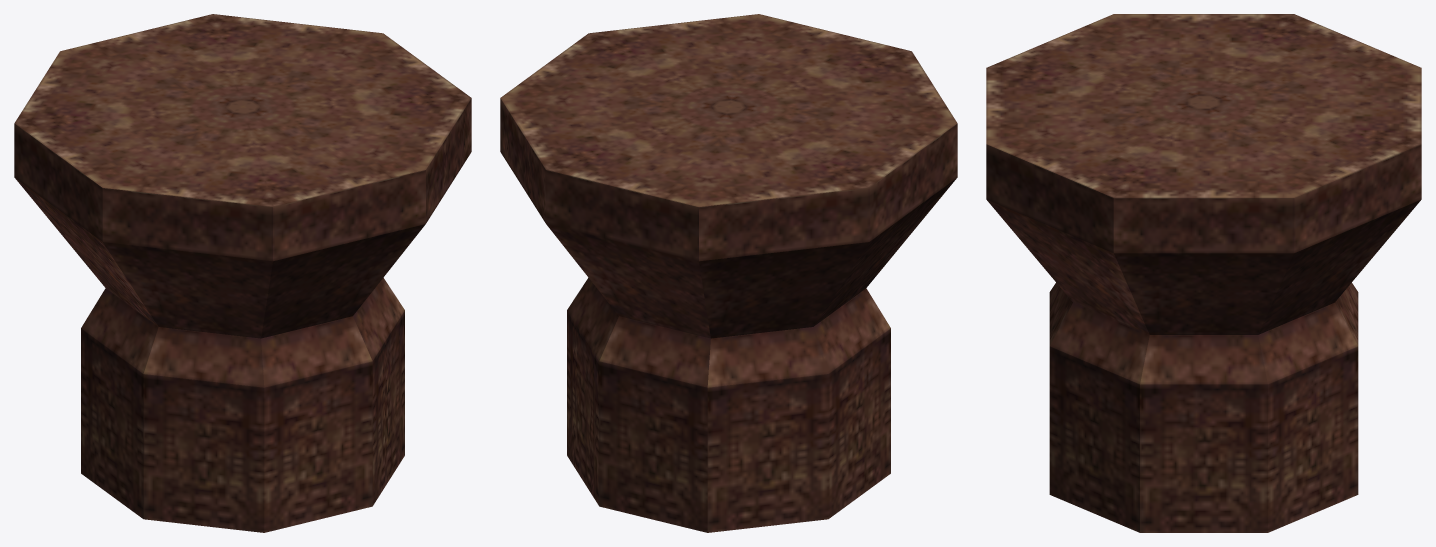
Rendered from general_obj_bigtower11.glb.
The picture shows the model from 3 angles, left to right: view 1: azimuth 30°, elevation 25°; view 2: azimuth 150°, elevation 25°; view 3: azimuth 270°, elevation 25°; orthographic projection. The views are drawn at different scales.
Visible parts, largest first — view 1: Sphere01; view 2: Sphere01; view 3: Sphere01.
Boxes of the visible parts, bbox=[...] form: Sphere01: bbox=[14, 14, 471, 532]; Sphere01: bbox=[500, 14, 957, 532]; Sphere01: bbox=[986, 14, 1421, 532].
Bounding box in the file's own units: 4.31 × 4 × 4.31.
1 material, 1 textured.
